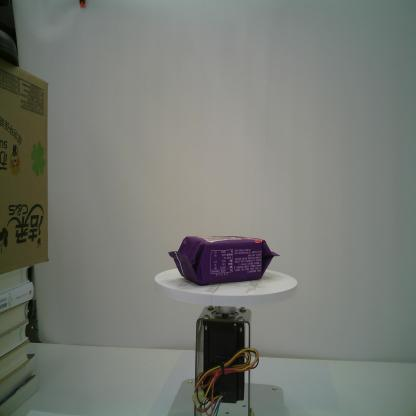Dessert: (167, 235, 280, 287)
